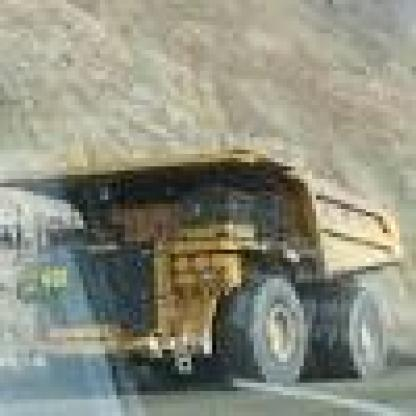dump_truck: (5, 133, 400, 399)
